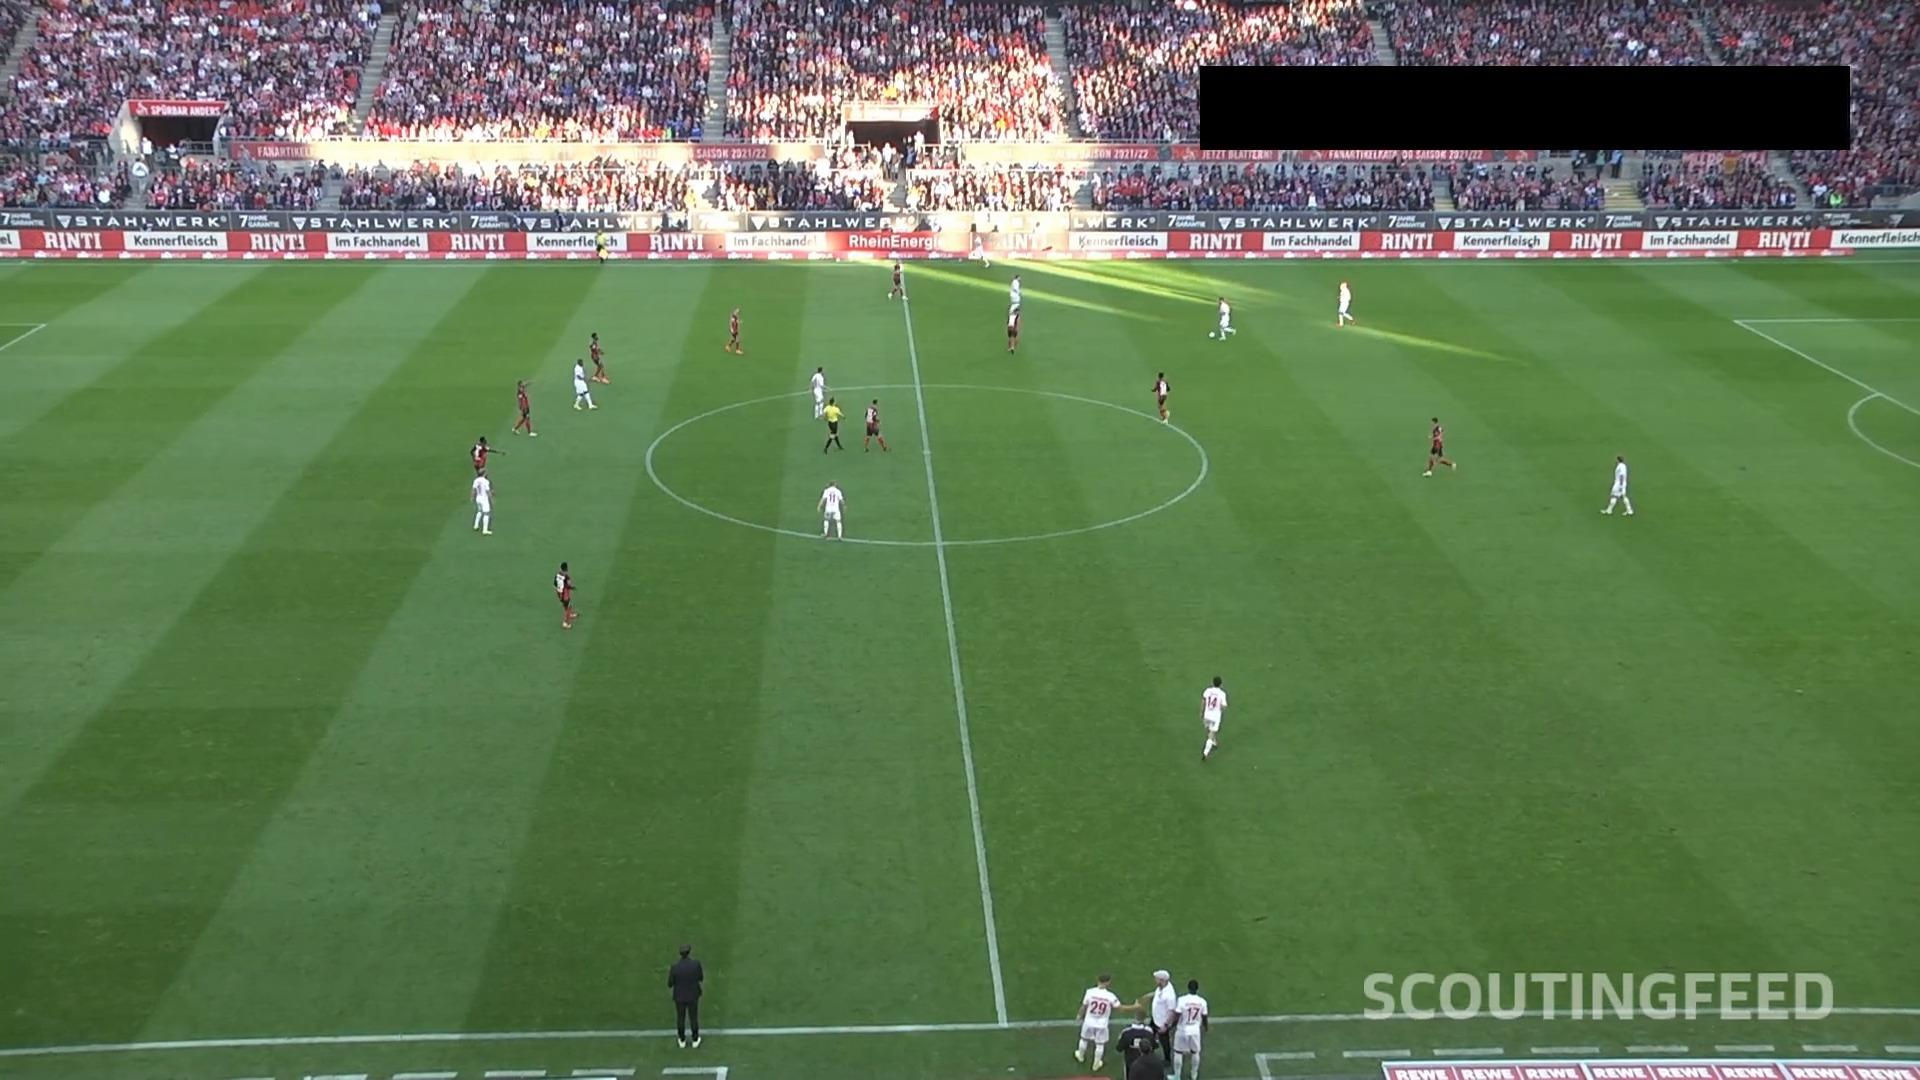ball: (1208, 331, 1216, 339)
